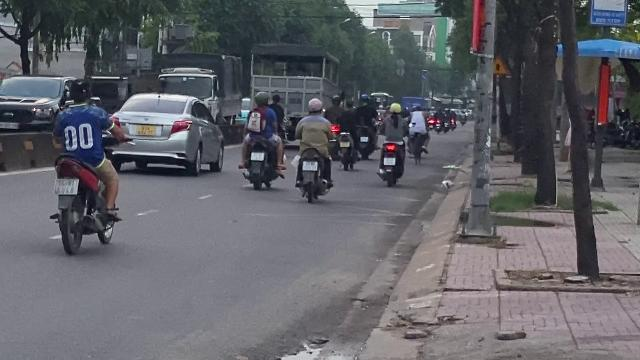licenseplate: (55, 179, 77, 194)
motorcyclist: (46, 75, 124, 253)
nohelmet: (64, 80, 90, 104)
